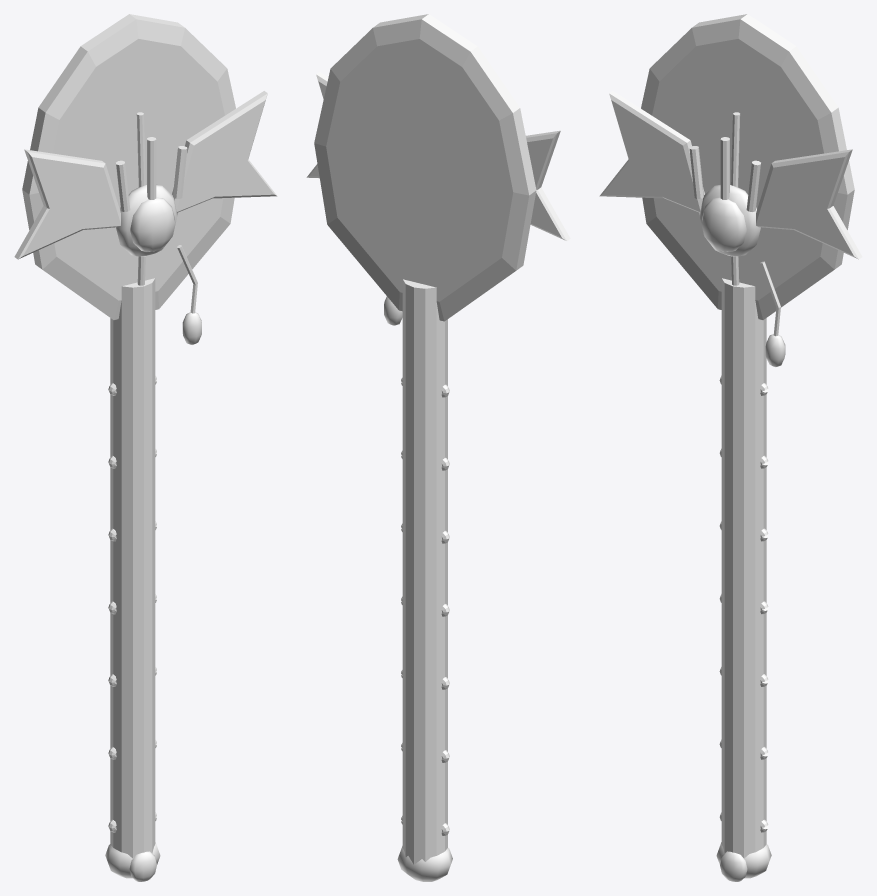
Rendered from shovel.obj.
3 renders of one model, left to right at view 1: azimuth 30°, elevation 25°; view 2: azimuth 150°, elevation 25°; view 3: azimuth 330°, elevation 25°, orthographic.
Size of the model in its own units: 0.3333 by 1.05 by 0.0854.
